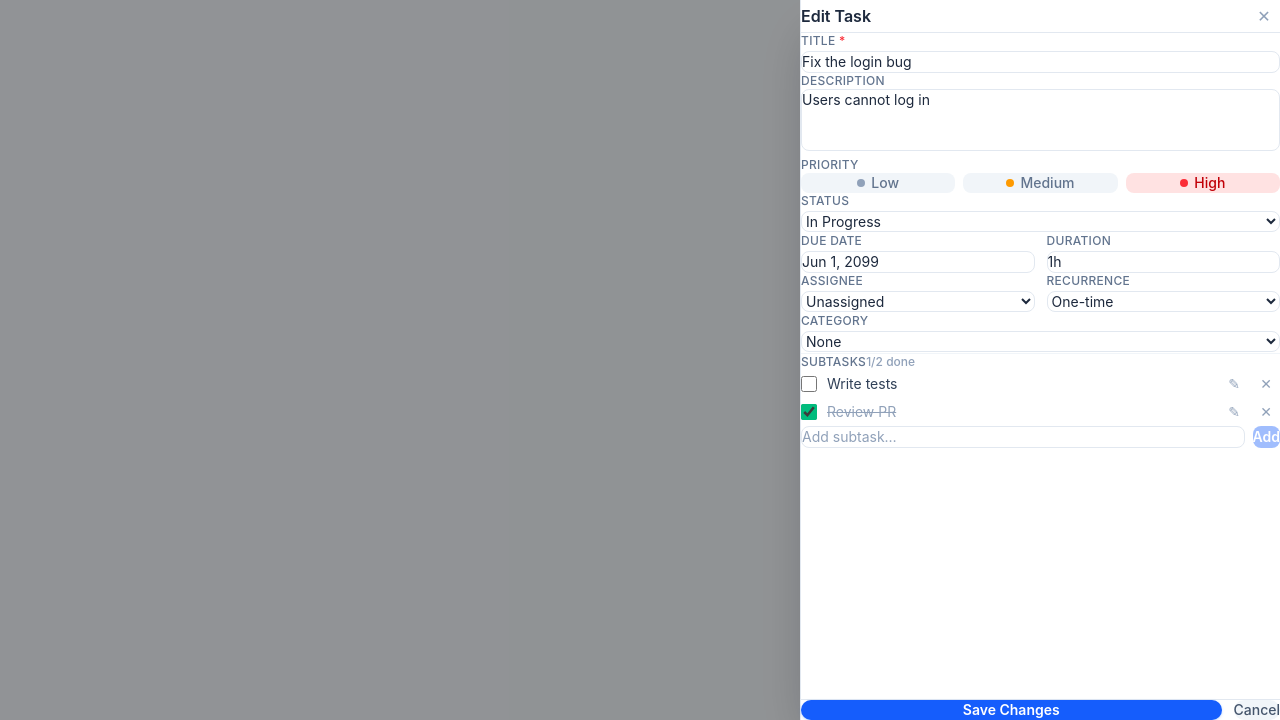
Scenario: TaskPanel — subtask row interactions › pressing Escape in subtask title input cancels editing without saving
The width and height of the screenshot is (1280, 720).
Click the button named "Edit subtask: Write tests" at (1234, 384), box 1220,370 -> 1248,398
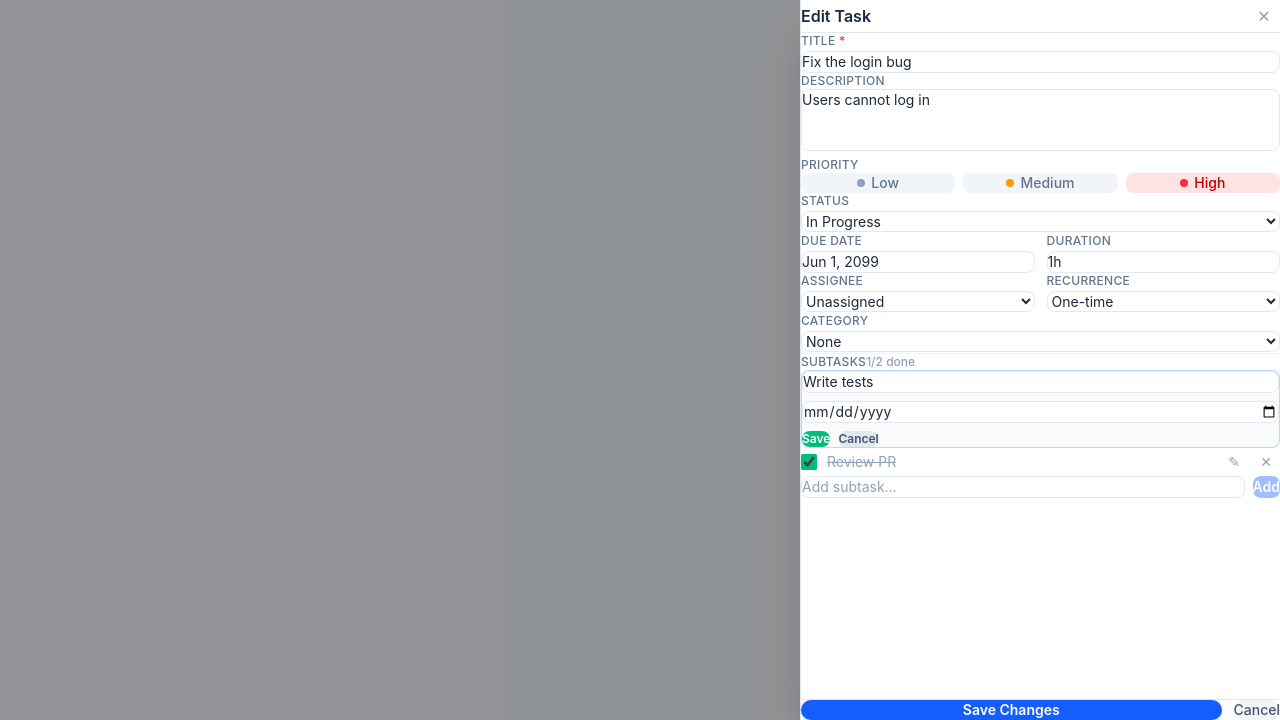
Press Escape in the field showing "Write tests" below "Subtasks", box 802,371 -> 1279,393
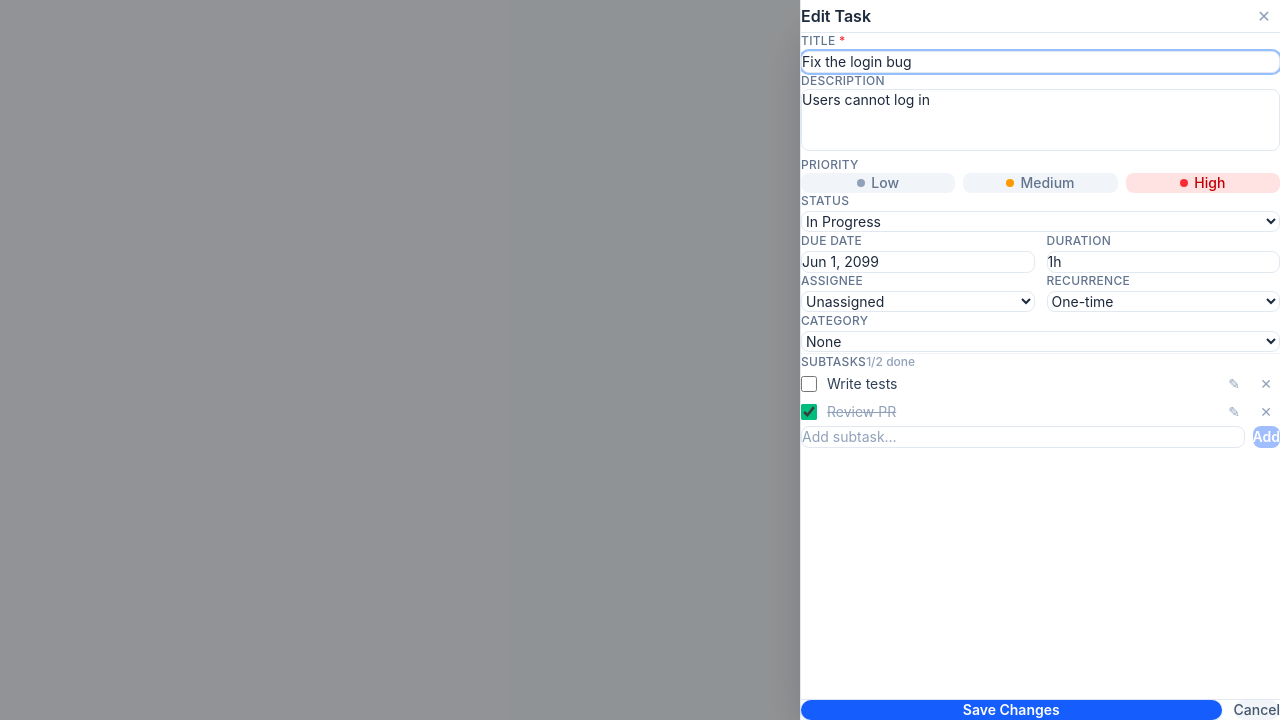
Check: the button named "Edit subtask: Write tests" is shown, box 1220,370 -> 1248,398
